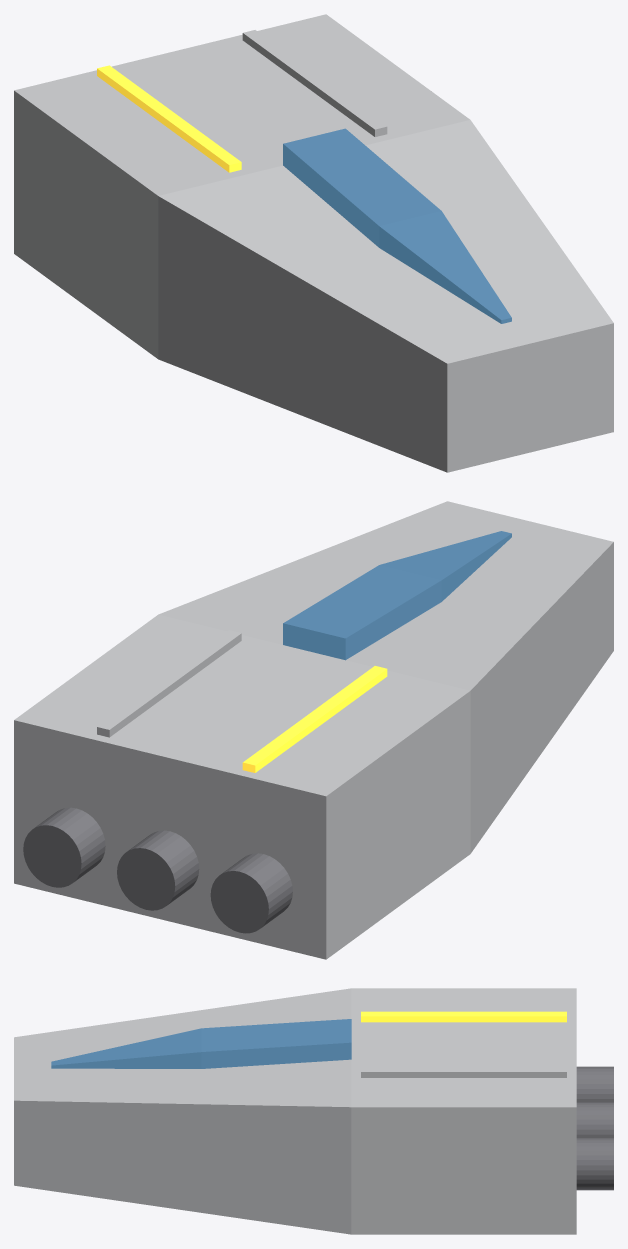
File: void_cruiser.glb
3 renders of one model, top to bottom at view 1: azimuth 30°, elevation 25°; view 2: azimuth 150°, elevation 25°; view 3: azimuth 270°, elevation 25°, orthographic. The views are drawn at different scales.
Visible parts, largest first — view 1: Hull_Nose, Hull_Cargo, Cockpit, HullRidge02, HullRidge01; view 2: Hull_Cargo, Hull_Nose, Cockpit, Thruster02, Thruster01, Thruster03, HullRidge01, HullRidge02; view 3: Hull_Nose, Hull_Cargo, Cockpit, HullRidge01, HullRidge02, Thruster03, Thruster01, Thruster02.
Part boxes in pixels (box(x1,y1,x2,y2)): Hull_Nose: box(158, 120, 613, 472); Hull_Cargo: box(14, 14, 469, 358); Cockpit: box(283, 128, 511, 323); HullRidge02: box(242, 30, 387, 136); HullRidge01: box(97, 65, 241, 172); Hull_Cargo: box(14, 614, 470, 959); Hull_Nose: box(158, 501, 613, 853); Cockpit: box(283, 531, 511, 660); Thruster02: box(117, 830, 199, 910); Thruster01: box(210, 853, 292, 933); Thruster03: box(23, 807, 105, 887); HullRidge01: box(242, 666, 387, 772); HullRidge02: box(97, 630, 241, 737); Hull_Nose: box(14, 988, 351, 1234); Hull_Cargo: box(351, 988, 576, 1234); Cockpit: box(51, 1019, 351, 1068); HullRidge01: box(361, 1011, 566, 1022); HullRidge02: box(361, 1067, 566, 1077); Thruster03: box(576, 1138, 613, 1190); Thruster01: box(576, 1066, 613, 1102); Thruster02: box(576, 1102, 613, 1137).
Size of the model in its own units: 15 by 8.5 by 32.
